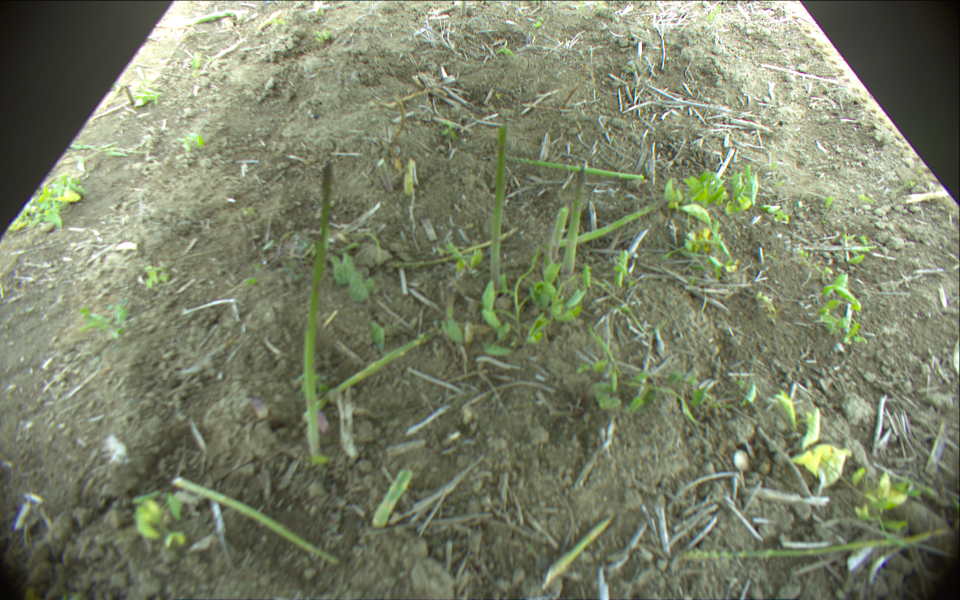aspa: (171, 477, 342, 564), (301, 326, 434, 426), (300, 161, 334, 464), (677, 532, 947, 564), (551, 194, 670, 247), (502, 147, 644, 184), (543, 520, 612, 585), (558, 157, 589, 278), (489, 121, 509, 295), (372, 469, 410, 531), (544, 206, 570, 265)
